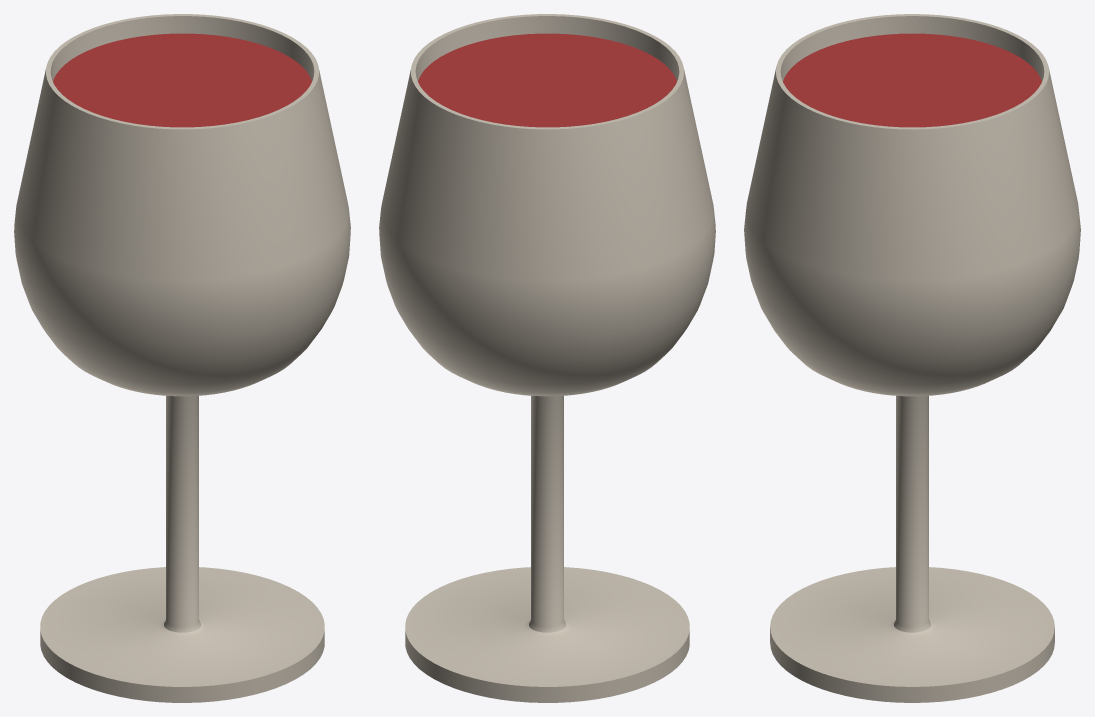
Rendered from wineglasswithfilling.fbx.
3 renders of one model, left to right at view 1: azimuth 30°, elevation 25°; view 2: azimuth 150°, elevation 25°; view 3: azimuth 270°, elevation 25°, orthographic.
Parts seen in each view (by area): view 1: WineGlass, WineGlassFilling; view 2: WineGlass, WineGlassFilling; view 3: WineGlass, WineGlassFilling.
Part boxes in pixels (left/top/right/bottom): WineGlass: left=14, top=14, right=350, bottom=702; WineGlassFilling: left=53, top=33, right=311, bottom=127; WineGlass: left=379, top=14, right=715, bottom=702; WineGlassFilling: left=418, top=33, right=676, bottom=127; WineGlass: left=744, top=14, right=1080, bottom=702; WineGlassFilling: left=783, top=33, right=1041, bottom=127.
Size of the model in its own units: 298 by 557 by 298.
